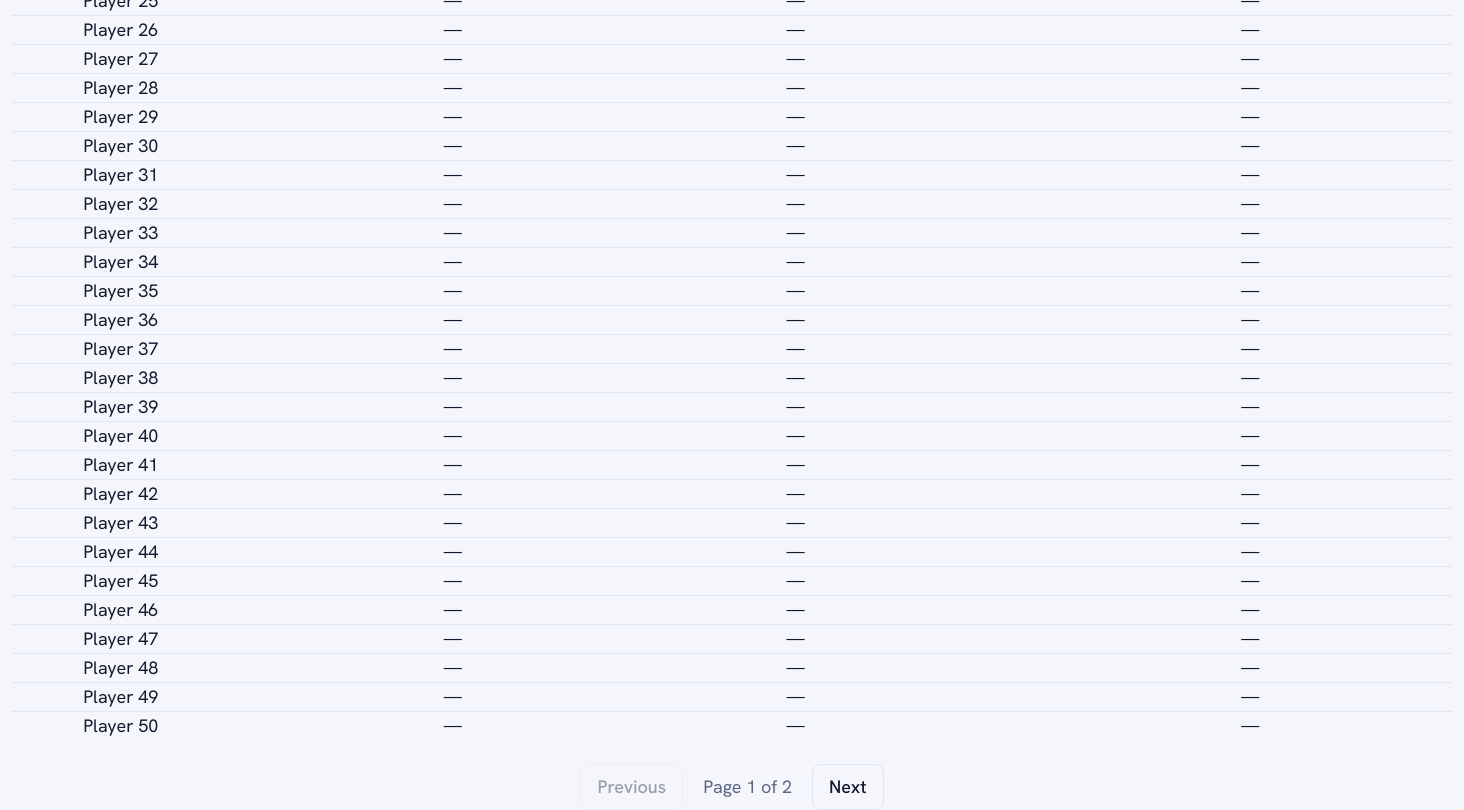
Test: PlayerDirectoryTable › resets to page 1 when the search filter changes
The width and height of the screenshot is (1464, 810).
(page scrolled)
Click the button "Next".
click(848, 787)  # box top-left (812, 764), bottom-right (884, 809)
(page scrolled)
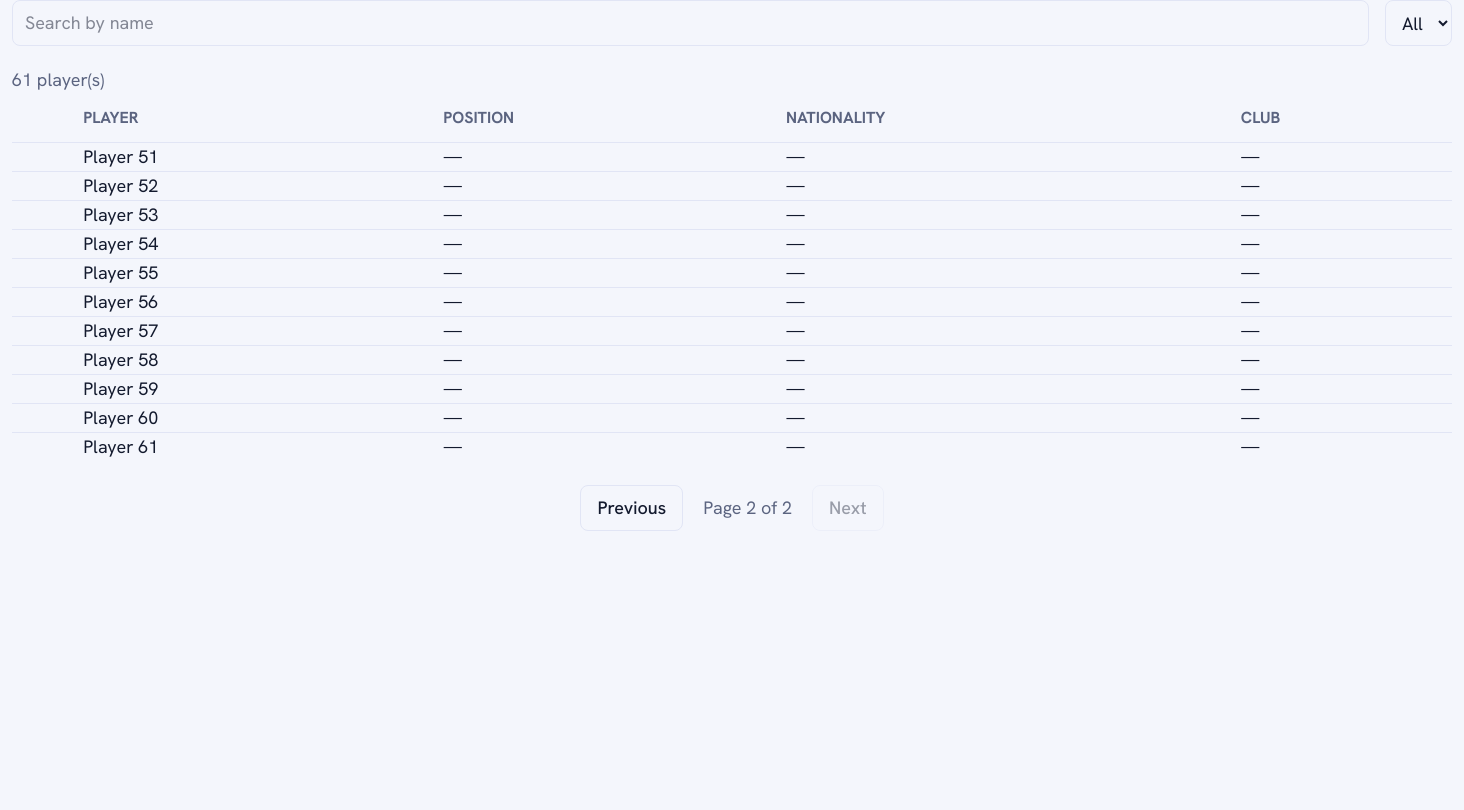
Check: the text "Player 51" is shown, box top-left (75, 142), bottom-right (435, 172)
Type "Player 0" into the field with placeholder "Search by name".
click(690, 23); type("Player 0")  # box top-left (12, 0), bottom-right (1369, 46)
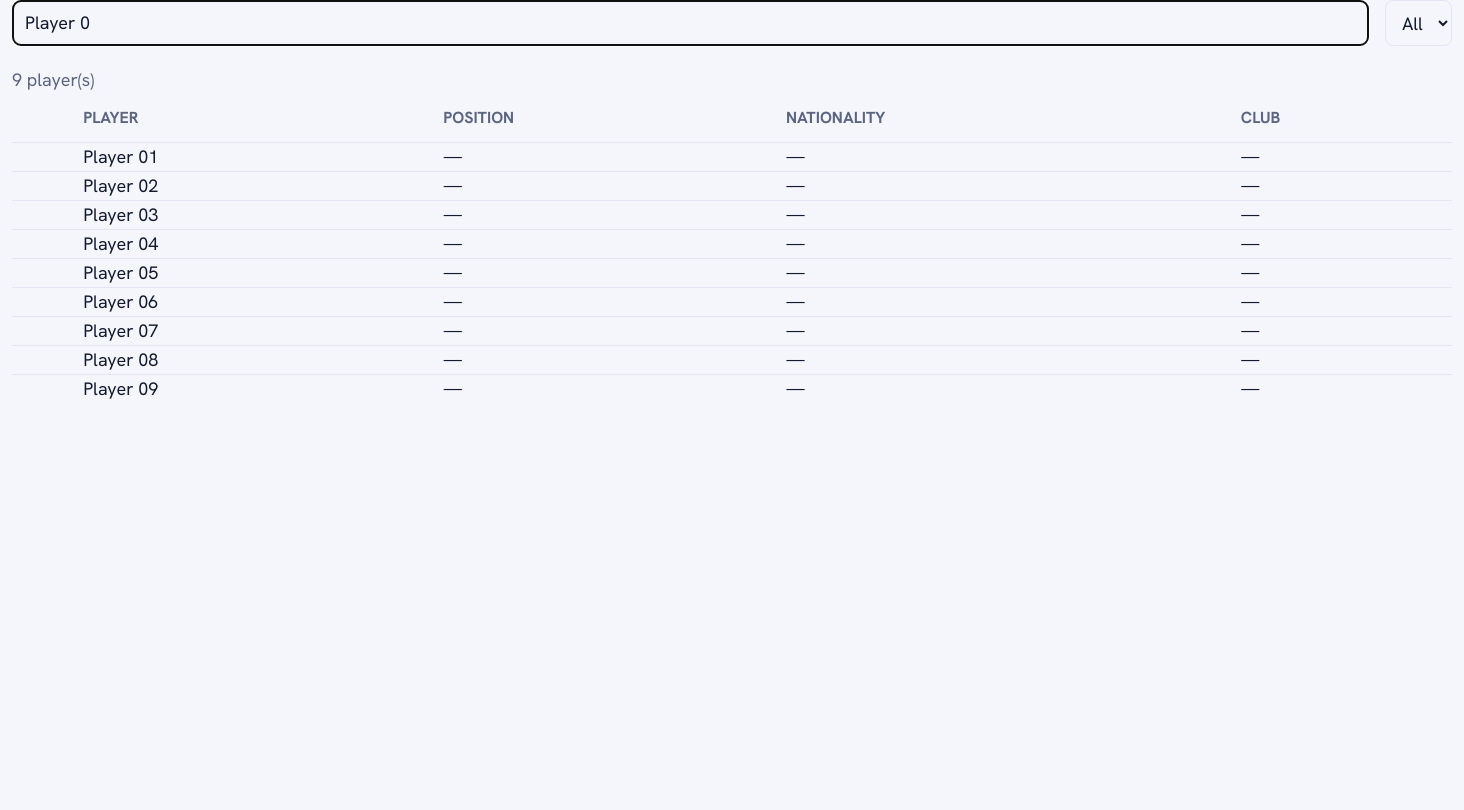
Check: the text "Player 01" is shown, box top-left (75, 142), bottom-right (435, 172)
